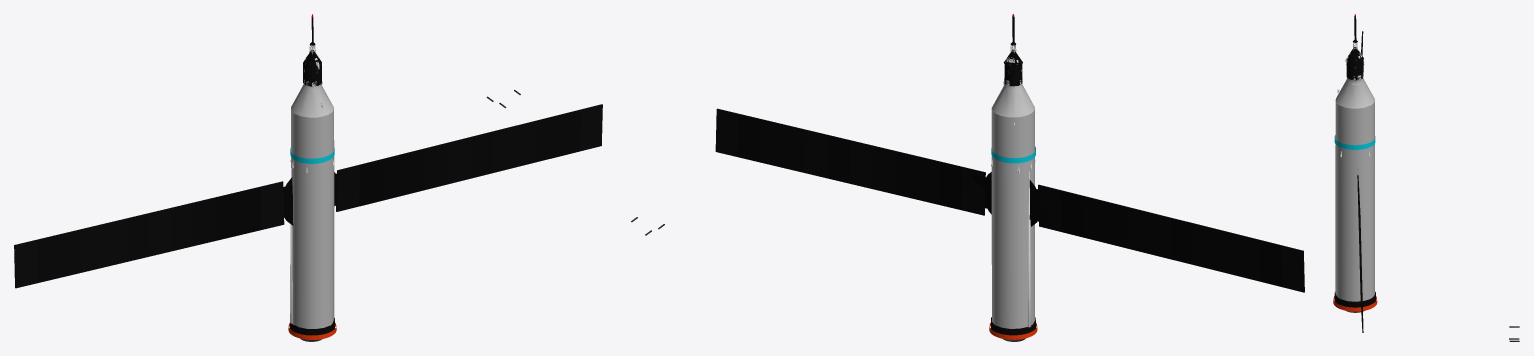
The model's file is ion.obj.
3 views of the same model, side by side, from view 1: azimuth 30°, elevation 25°; view 2: azimuth 150°, elevation 25°; view 3: azimuth 270°, elevation 25° (orthographic). The views are drawn at different scales.
Parts seen in each view (by area): view 1: saturn_v_Cylinder, Cube.015_Cube.016, Cube.014_Cube.015, Cube.018_Cube.019, Cube.023_Cube.024, Cube.026_Cube.027, Cube.016_Cube.017, Cube.017_Cube.018, Cube.021_Cube.022, Cube.025_Cube.026, Cube.024_Cube.025, Cube.019_Cube.020 (+13 smaller); view 2: saturn_v_Cylinder, Cube.002_Cube.003, Cube.011_Cube.012, Cube.012_Cube.013, Cube.003_Cube.004, Cube.007_Cube.008, Cube.009_Cube.010, Cube.010_Cube.011, Cube.013_Cube.014, Cube.004_Cube.005, Cube.005_Cube.006, Cube.001 (+14 smaller); view 3: saturn_v_Cylinder, Sphere, Outside_cylinder.002_Cylinder.057, Sphere.001_Sphere.003.
Boxes of the visible parts, left/top/right/bottom form: saturn_v_Cylinder: left=290, top=14, right=334, bottom=328; Cube.015_Cube.016: left=14, top=240, right=37, bottom=288; Cube.014_Cube.015: left=260, top=181, right=284, bottom=229; Cube.018_Cube.019: left=81, top=224, right=104, bottom=272; Cube.023_Cube.024: left=148, top=208, right=171, bottom=256; Cube.026_Cube.027: left=215, top=192, right=239, bottom=240; Cube.016_Cube.017: left=36, top=234, right=59, bottom=282; Cube.017_Cube.018: left=59, top=229, right=82, bottom=277; Cube.021_Cube.022: left=126, top=213, right=149, bottom=261; Cube.025_Cube.026: left=193, top=197, right=216, bottom=245; Cube.024_Cube.025: left=171, top=202, right=194, bottom=251; Cube.019_Cube.020: left=104, top=218, right=127, bottom=266; saturn_v_Cylinder: left=991, top=14, right=1035, bottom=328; Cube.002_Cube.003: left=737, top=114, right=761, bottom=162; Cube.011_Cube.012: left=894, top=151, right=917, bottom=199; Cube.012_Cube.013: left=916, top=156, right=940, bottom=204; Cube.003_Cube.004: left=760, top=119, right=783, bottom=167; Cube.007_Cube.008: left=827, top=135, right=850, bottom=183; Cube.009_Cube.010: left=849, top=140, right=872, bottom=188; Cube.010_Cube.011: left=872, top=145, right=895, bottom=193; Cube.013_Cube.014: left=939, top=161, right=962, bottom=210; Cube.004_Cube.005: left=782, top=124, right=805, bottom=172; Cube.005_Cube.006: left=805, top=130, right=828, bottom=178; Cube.001: left=715, top=108, right=738, bottom=156; saturn_v_Cylinder: left=1335, top=14, right=1374, bottom=301; Sphere: left=1334, top=291, right=1375, bottom=307; Outside_cylinder.002_Cylinder.057: left=1334, top=135, right=1375, bottom=149; Sphere.001_Sphere.003: left=1333, top=296, right=1377, bottom=311.
Size of the model in its own units: 29.12 by 15.28 by 8.77.
